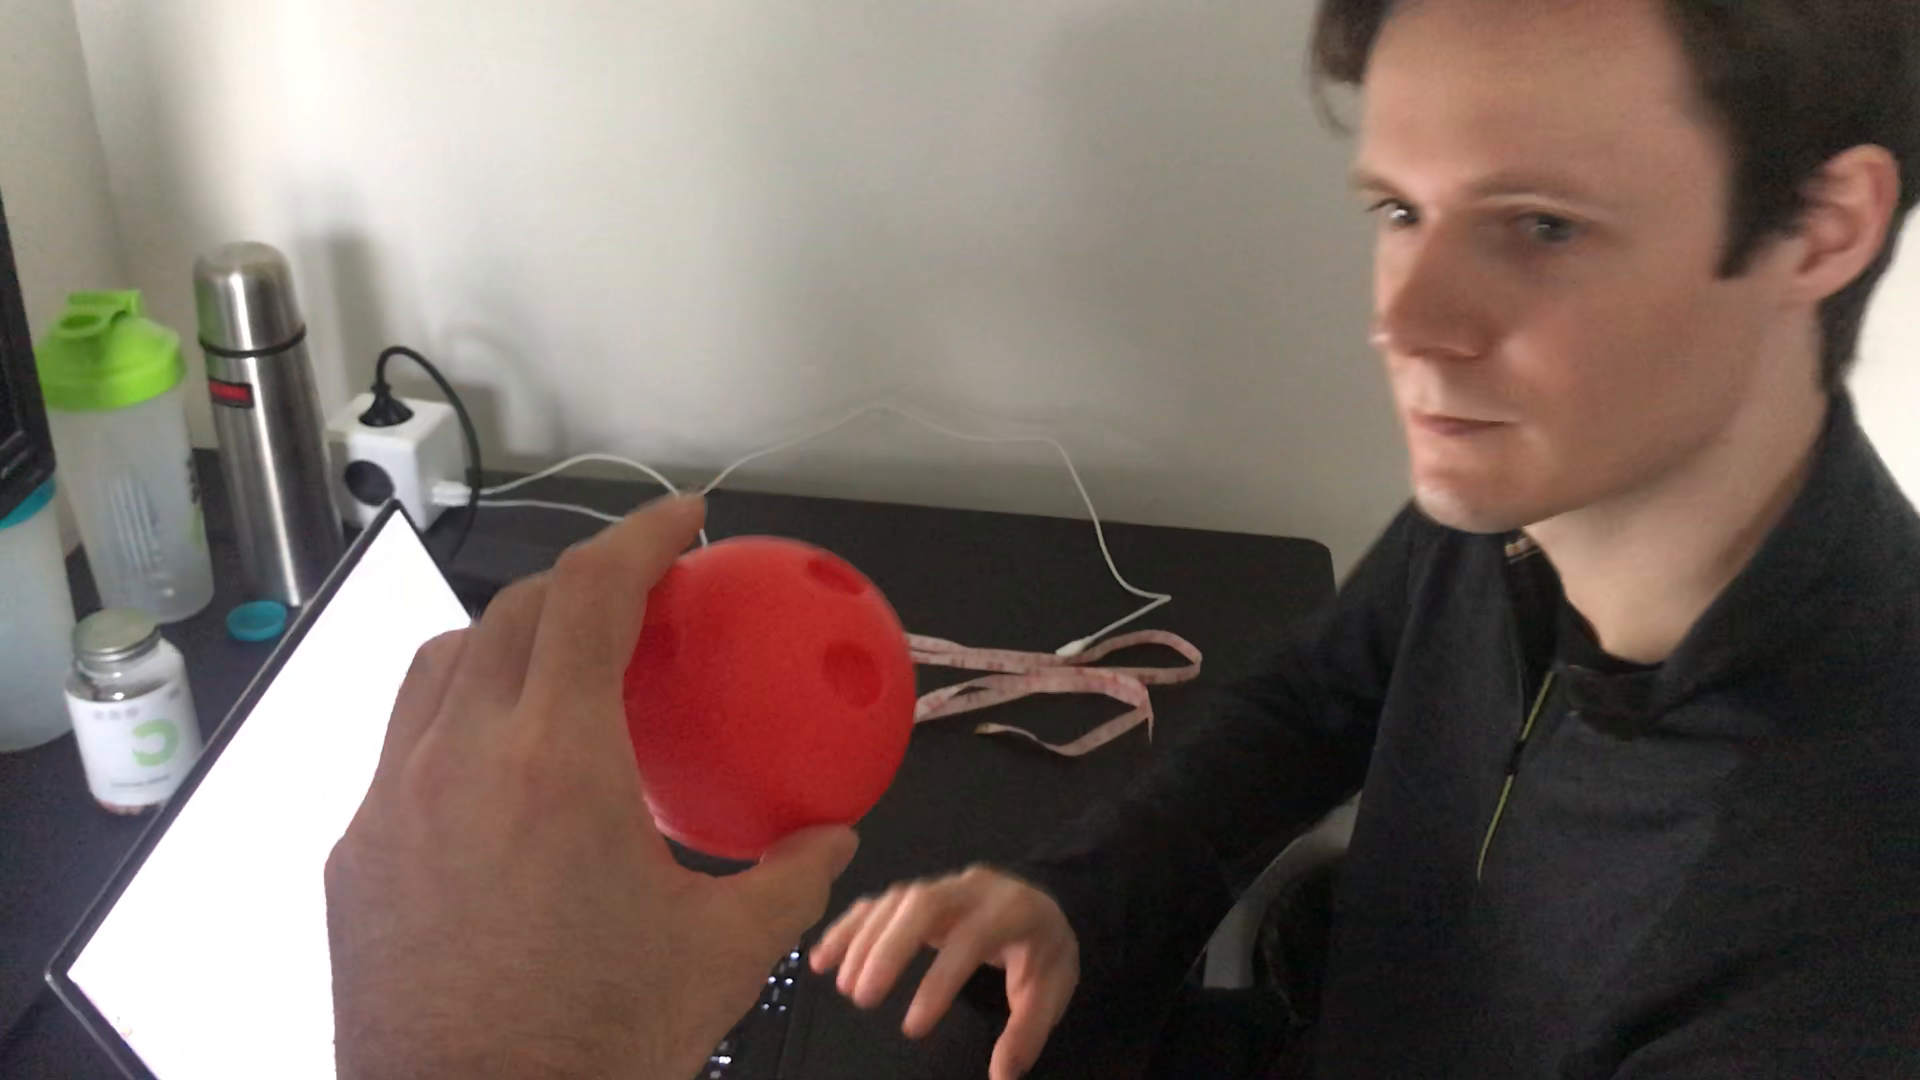Ball: (588, 537, 914, 858)
